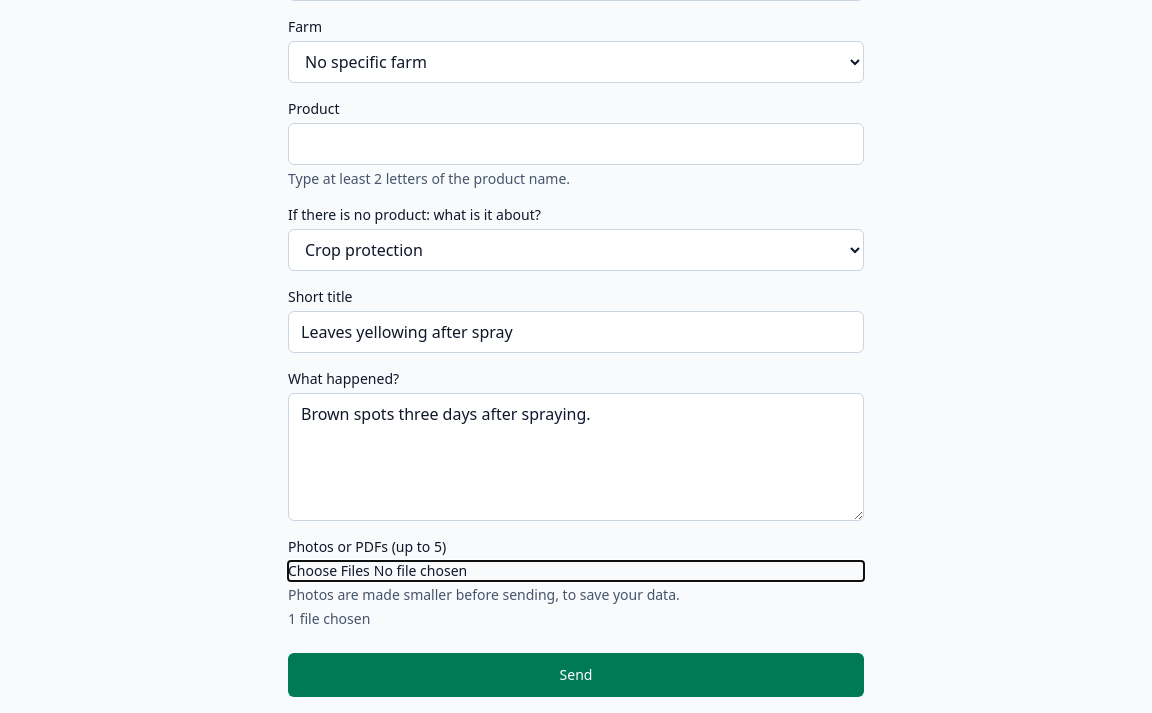
Test: SPEC-FE-02 R106 raise a case (PRD J4) › FE-E106 a failed upload keeps the case and says so
The width and height of the screenshot is (1152, 713).
Earlier steps of the test are not shown.
(page scrolled)
Click the button "Send": (576, 675) x1=288 y1=653 x2=864 y2=697
(page scrolled)
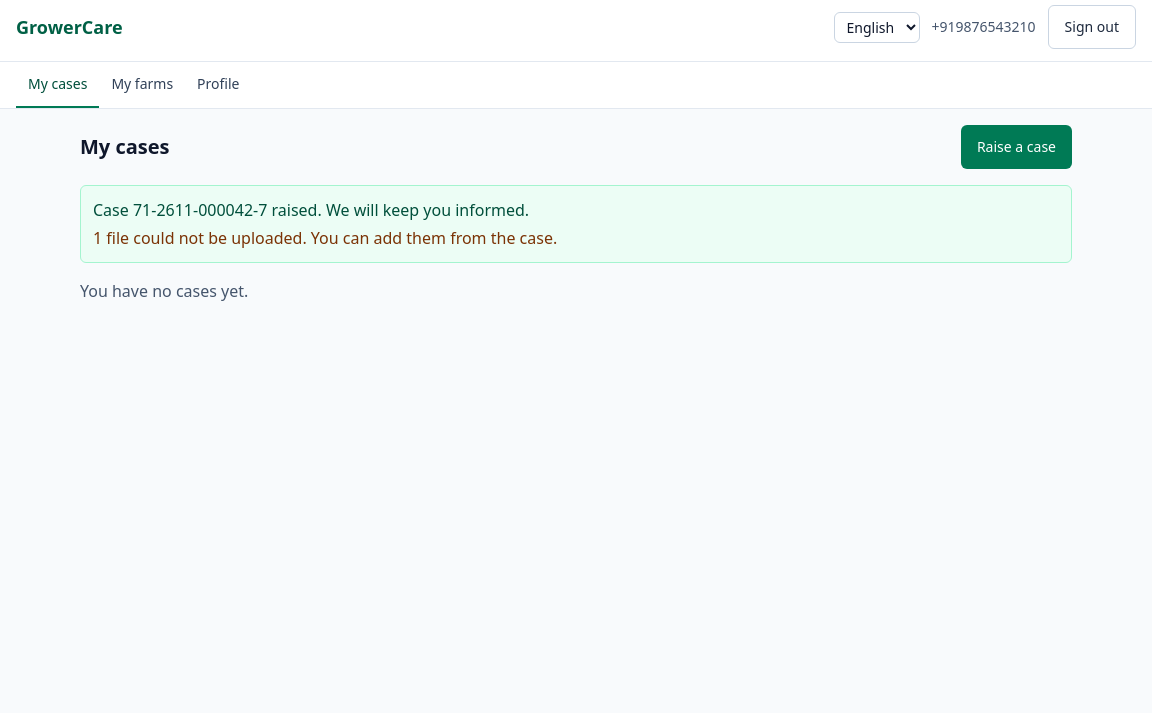
Expected: the text "1 file could not be uploaded. You can add them from the case." is shown, x1=93 y1=227 x2=557 y2=249
